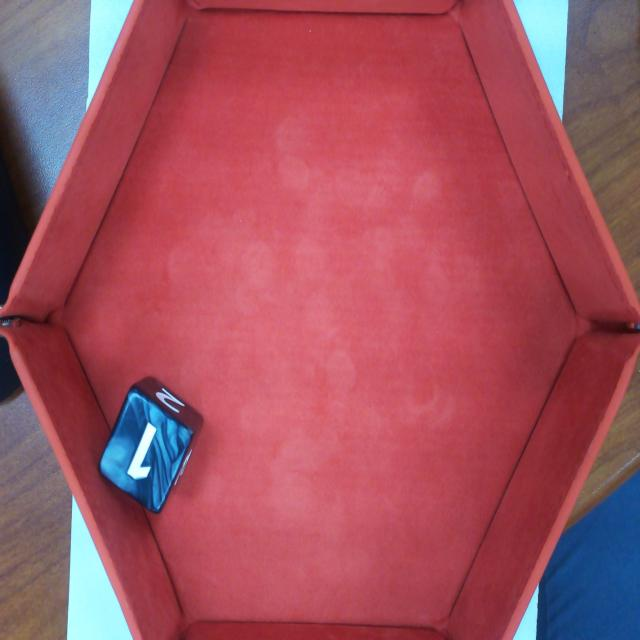dice: (100, 388, 193, 514)
